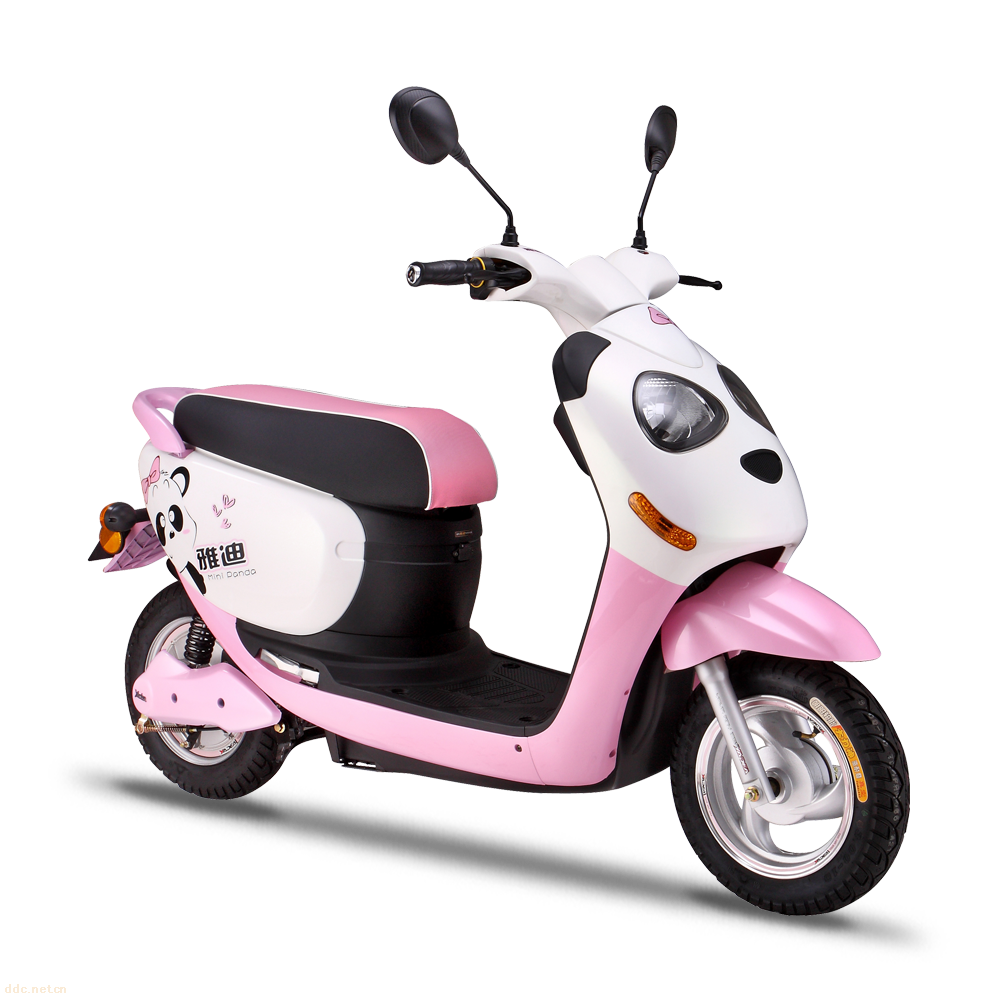MNV: (126, 87, 910, 913)
